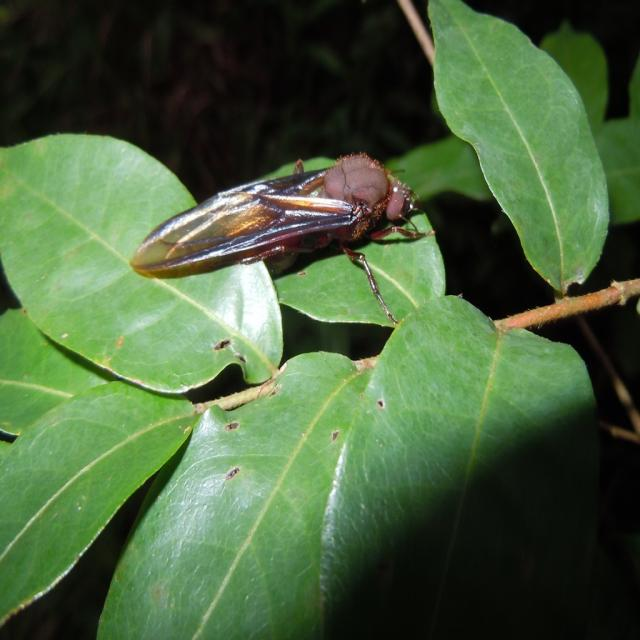Alive-Female-Alate: (130, 154, 436, 326)
